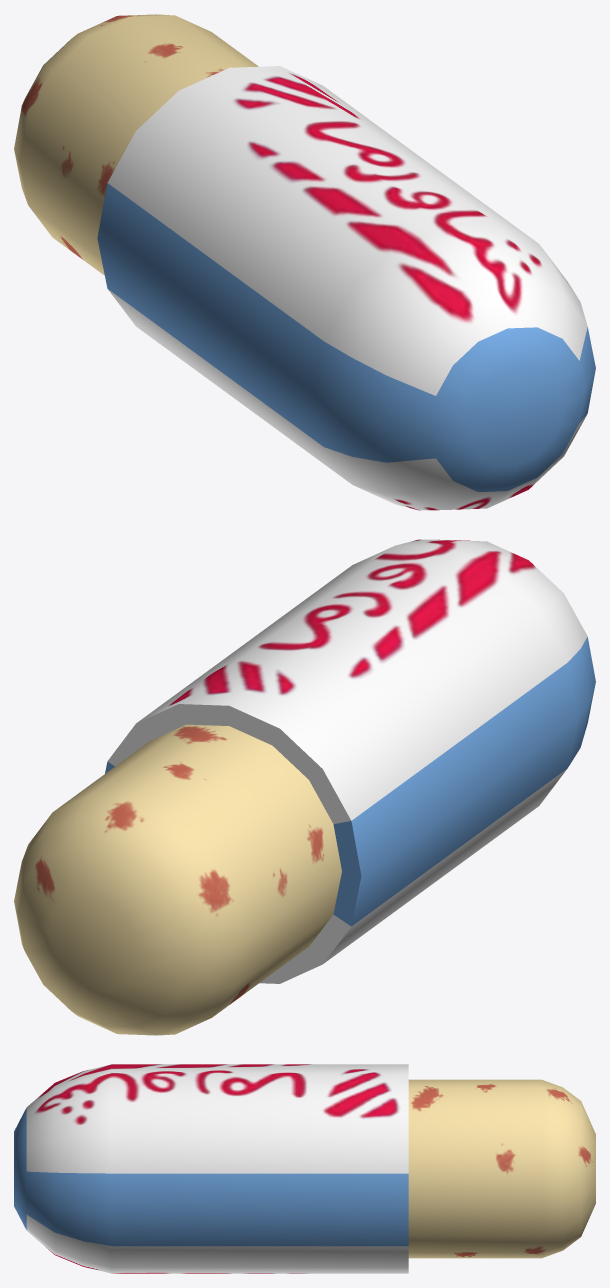
The model's file is 完整沙威玛.fbx.
3 renders of one model, top to bottom at view 1: azimuth 30°, elevation 25°; view 2: azimuth 150°, elevation 25°; view 3: azimuth 270°, elevation 25°, orthographic. The views are drawn at different scales.
Visible parts, largest first — view 1: 柱体, 柱体.001; view 2: 柱体, 柱体.001; view 3: 柱体, 柱体.001.
Boxes of the visible parts, x1,y1,x2,y2 form: 柱体: (97,66,595,510); 柱体.001: (14,14,258,275); 柱体: (105,539,595,983); 柱体.001: (14,724,341,1035); 柱体: (14,1064,408,1273); 柱体.001: (408,1079,595,1258).
Size of the model in its own units: 200 by 200 by 556.
